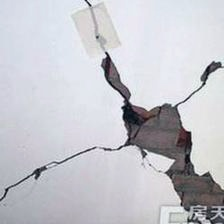crack: (1, 144, 126, 199), (85, 1, 110, 55), (177, 84, 208, 108)
spalling: (103, 56, 224, 224)
